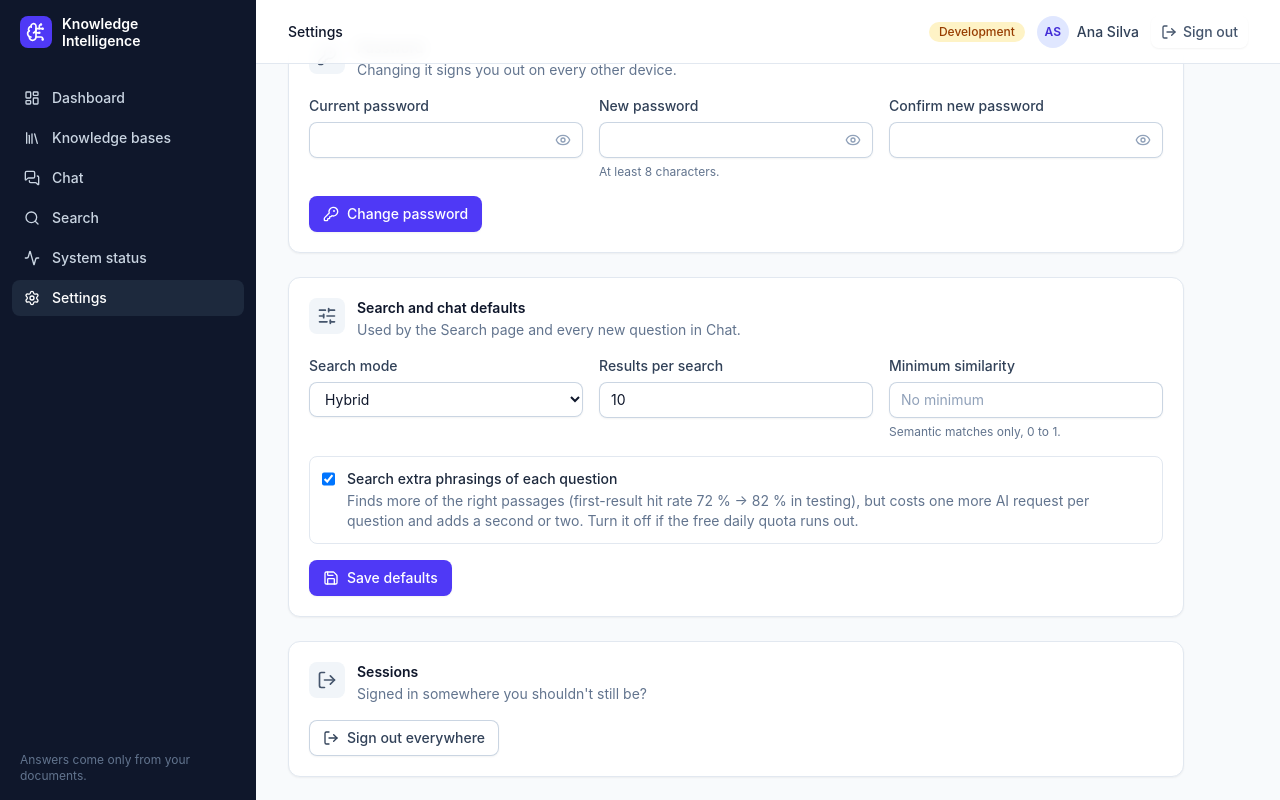
Test: settings page › saves search and chat defaults, and refuses out-of-range numbers
(page scrolled)
Replace the text in the number field labelled "Results per search" with "80": (736, 400) [599,382,873,418]
Click the button "Save defaults": (380, 578) [309,560,452,596]
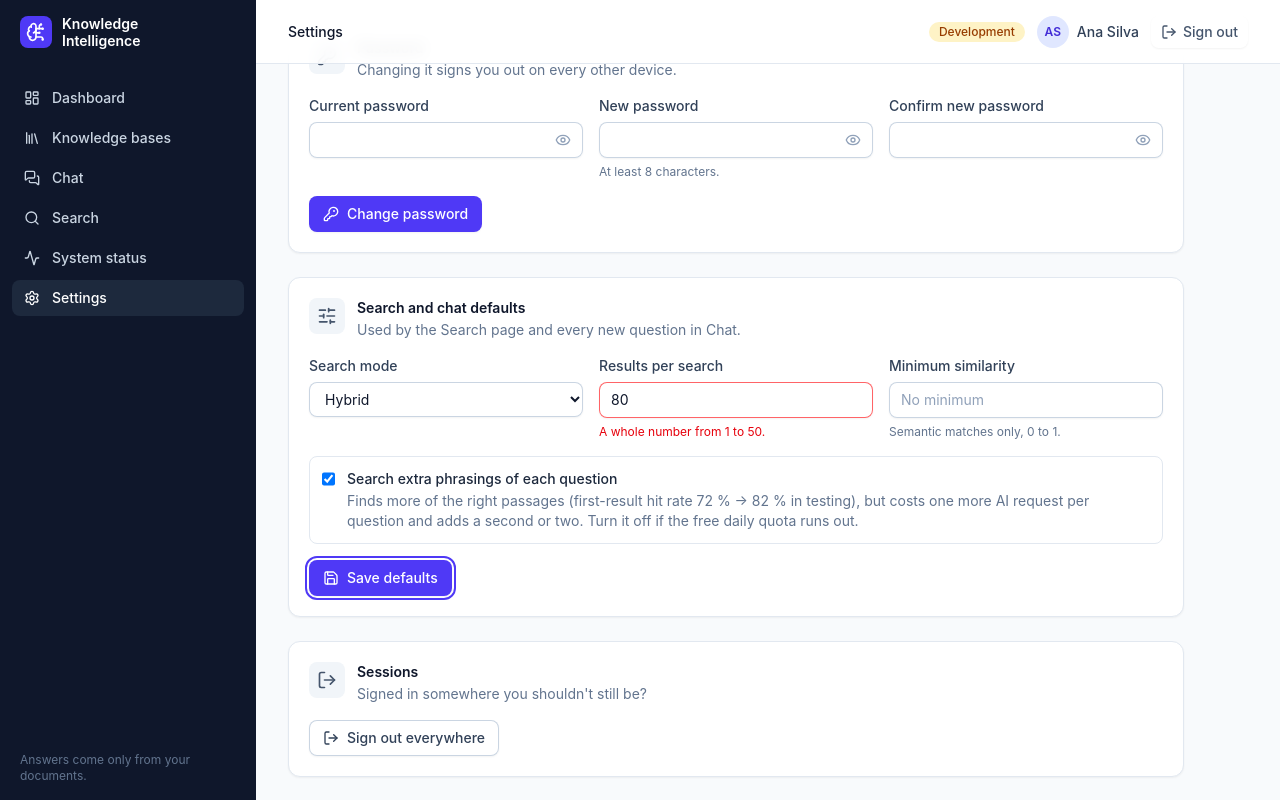
Result: the text "A whole number from 1 to 50." is shown at [599,424,765,439]
Replace the text in the number field labelled "Results per search" with "5": (736, 400) [599,382,873,418]
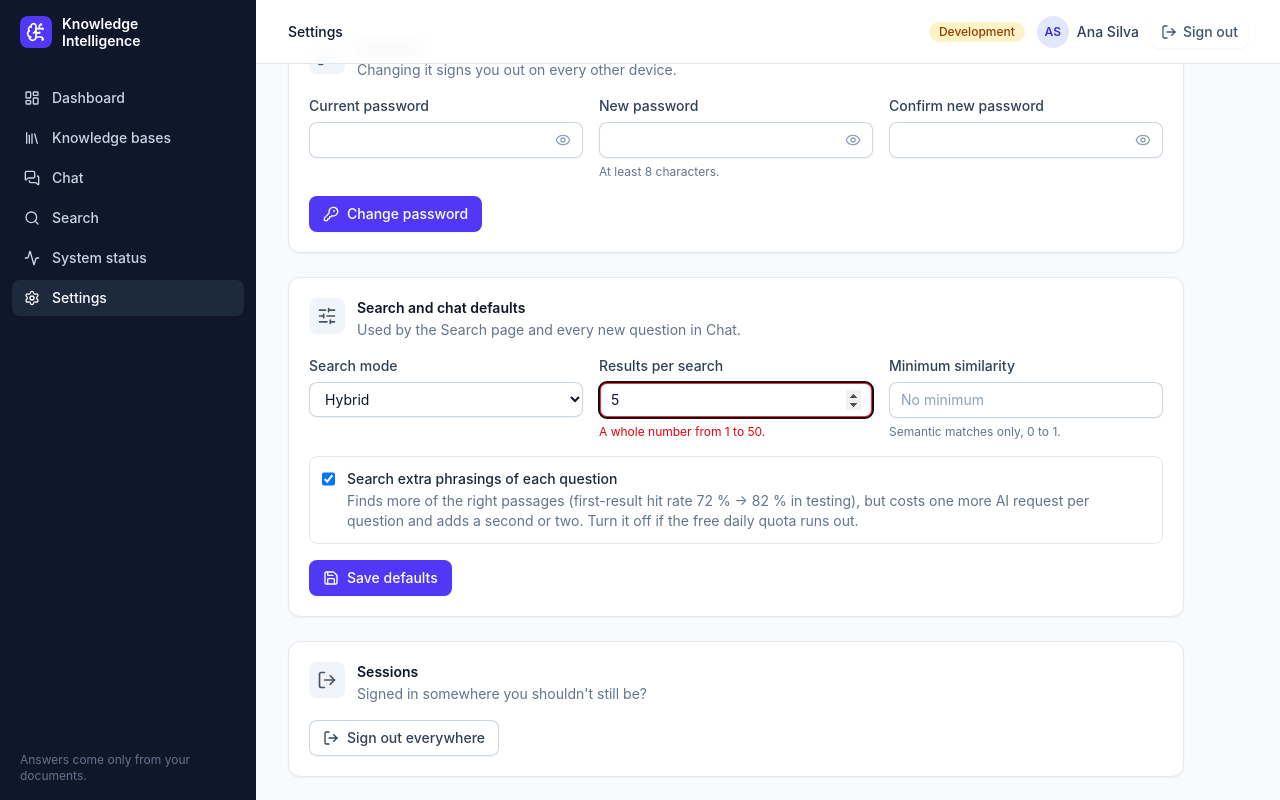
Select "Keyword" in the dropdown labelled "Search mode": (446, 400) [309,382,583,417]
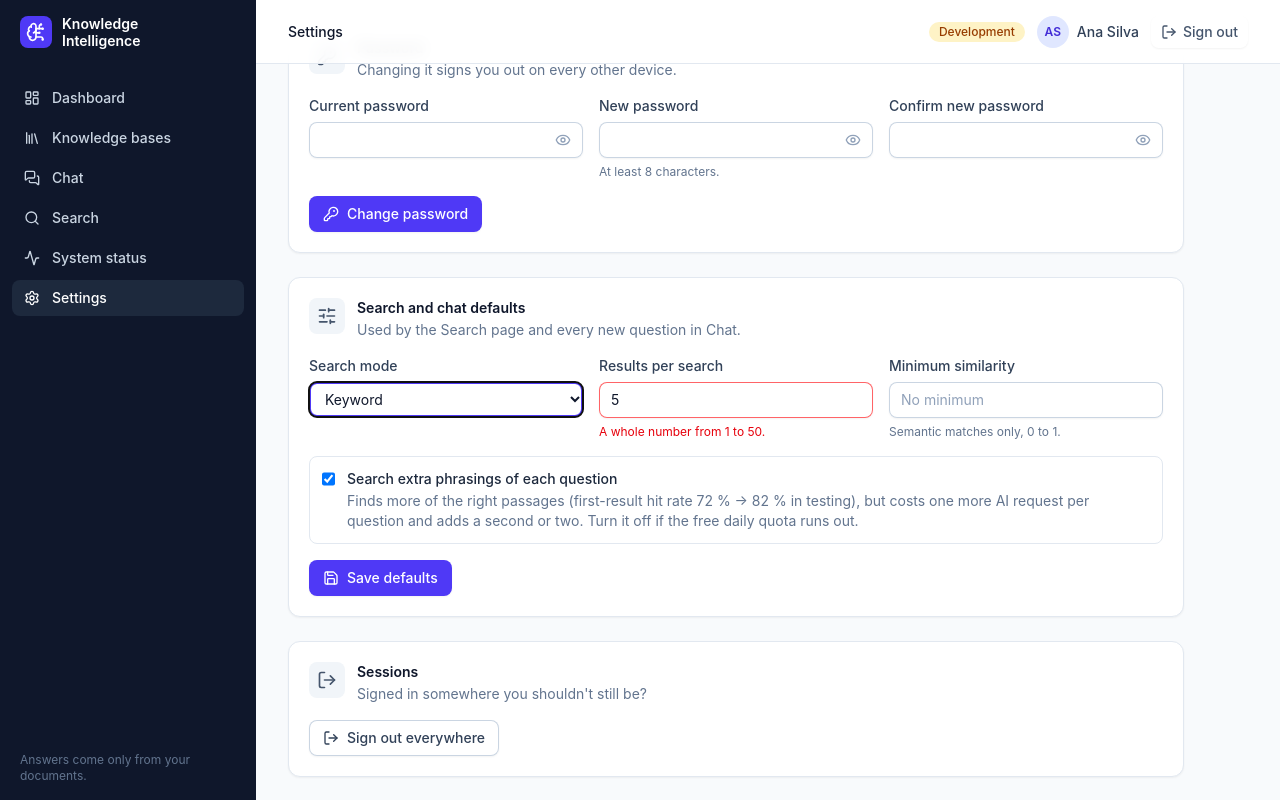
In the number field labelled "Minimum similarity": (1026, 400) [889,382,1163,418], type "0.5"
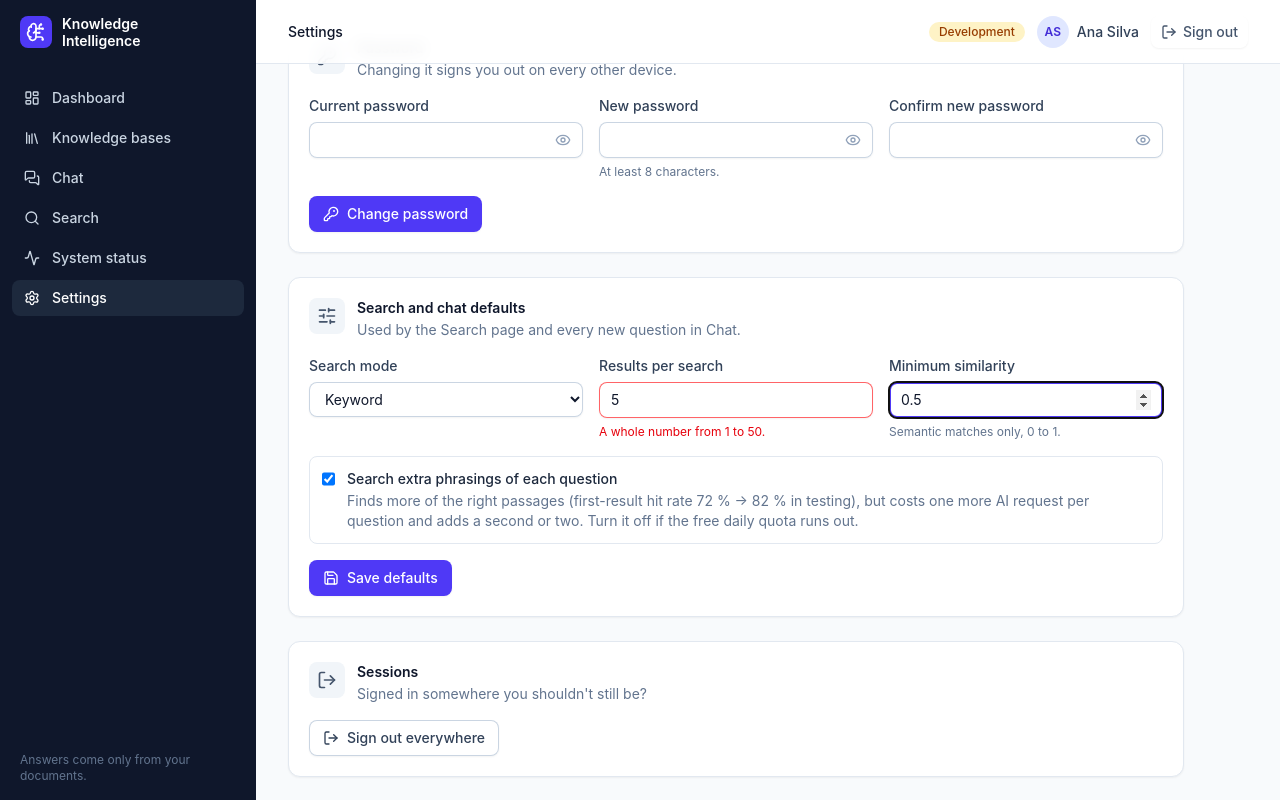
Click the checkbox labelled "extra phrasings": (328, 479) [322,471,335,487]
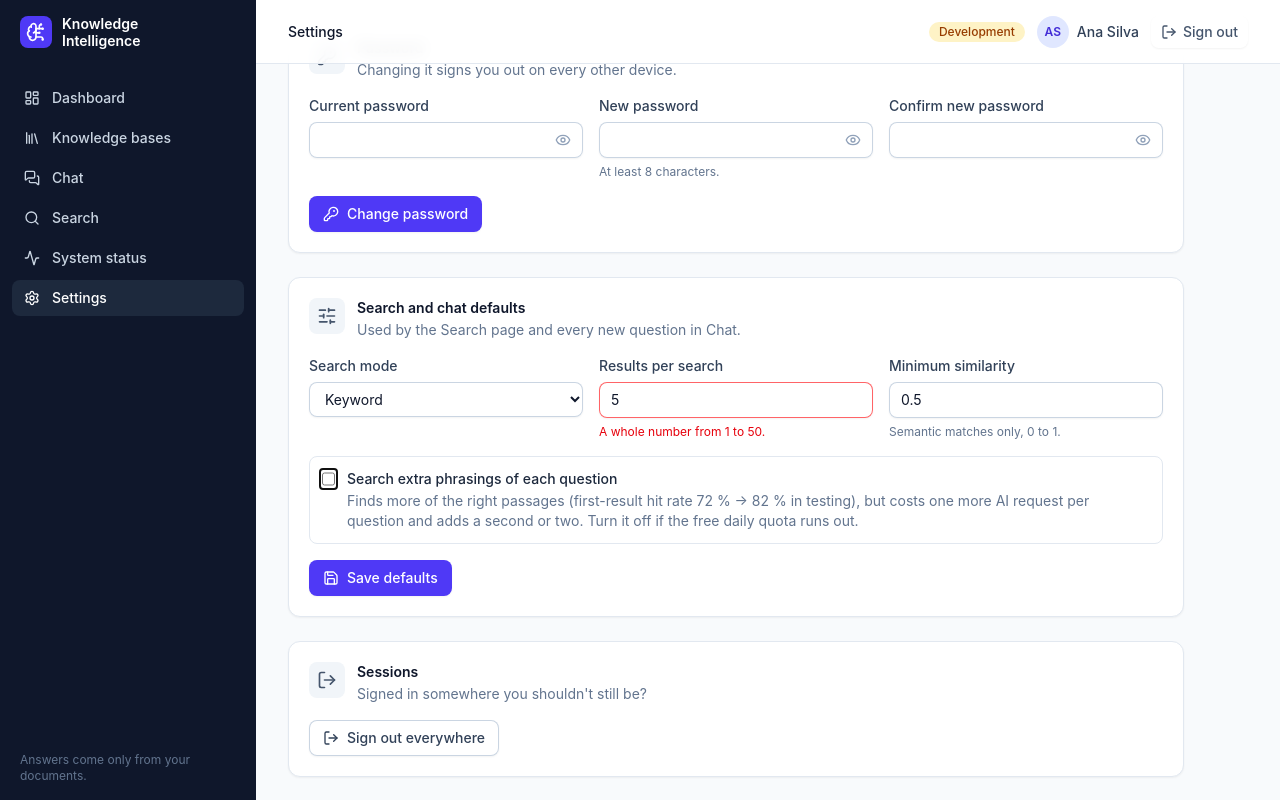
Click the button "Save defaults": (380, 578) [309,560,452,596]
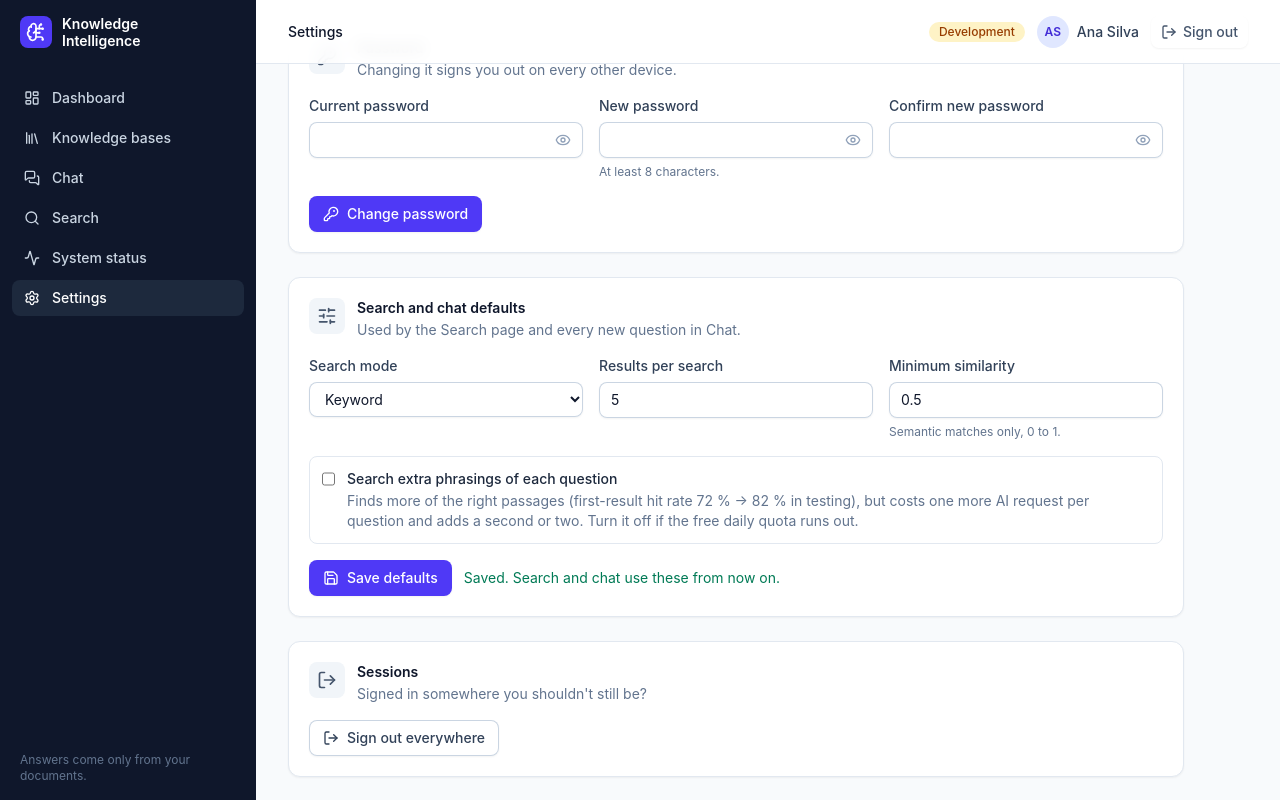
Result: the message shows "Saved." at [464,569,780,586]
